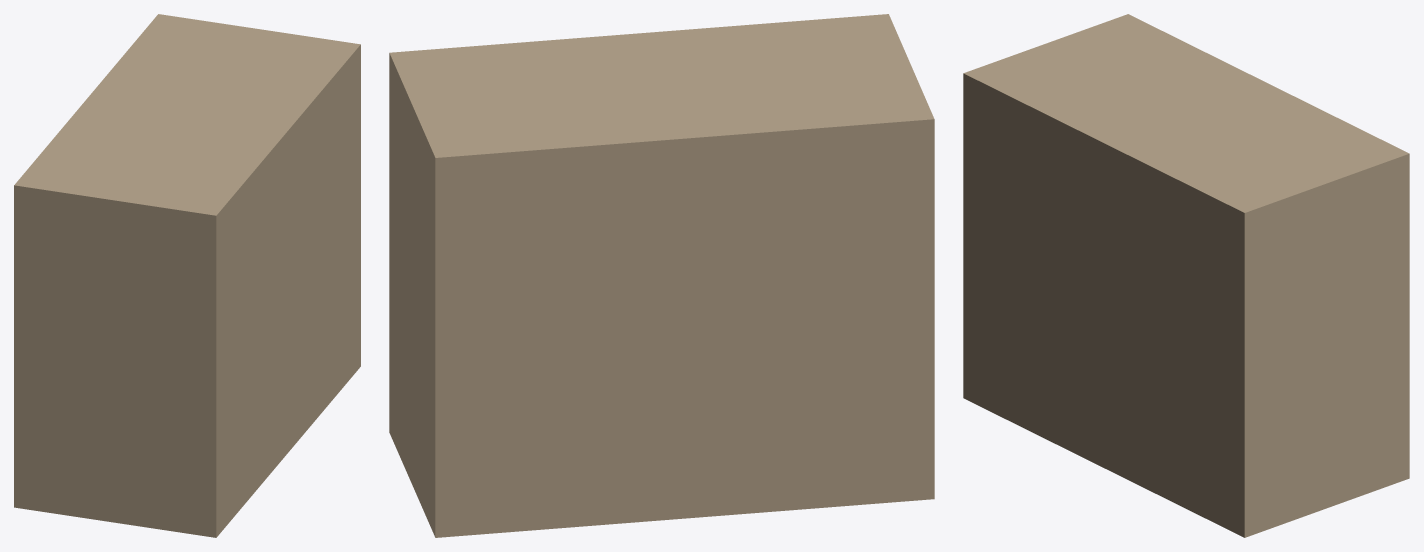
File: bld_163484443.dae
The picture shows the model from 3 angles, left to right: view 1: azimuth 30°, elevation 25°; view 2: azimuth 150°, elevation 25°; view 3: azimuth 270°, elevation 25°; orthographic projection. The views are drawn at different scales.
Visible parts, largest first — view 1: bld_163484443; view 2: bld_163484443; view 3: bld_163484443.
Part boxes in pixels (left/top/right/bottom): bld_163484443: left=14, top=14, right=360, bottom=537; bld_163484443: left=389, top=14, right=934, bottom=537; bld_163484443: left=963, top=14, right=1409, bottom=537.
Bounding box in the file's own units: 10.51 × 9.96 × 8.
